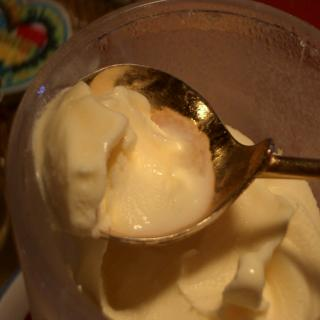Ice cream: (80, 120, 320, 320), (31, 77, 211, 239)
